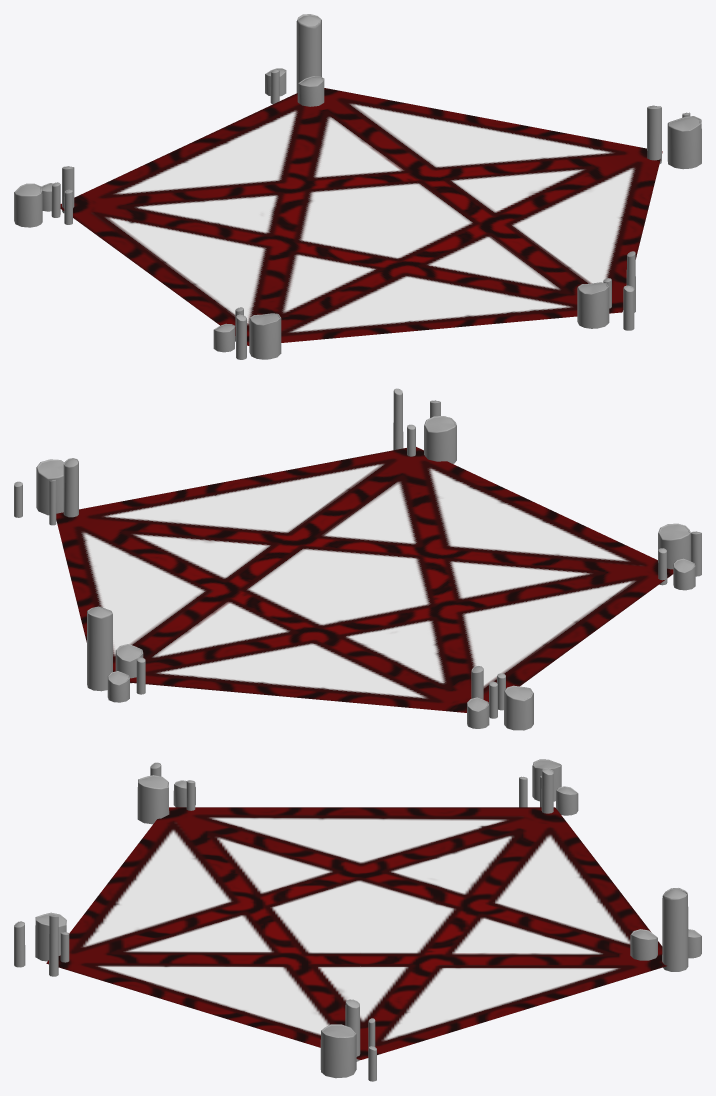
File: Spawner.fbx
3 views of the same model, one above another, from view 1: azimuth 30°, elevation 25°; view 2: azimuth 150°, elevation 25°; view 3: azimuth 270°, elevation 25° (orthographic). The views are drawn at different scales.
Visible parts, largest first — view 1: polySurface46; view 2: polySurface46; view 3: polySurface46.
Boxes of the visible parts, x1,y1,x2,y2 form: polySurface46: [14, 14, 701, 359]; polySurface46: [14, 388, 701, 730]; polySurface46: [14, 759, 701, 1081].
Bounding box in the file's own units: 213 × 25.92 × 212.
